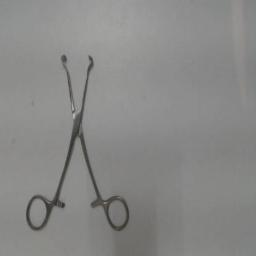Babcock Tissue Forceps: (26, 49, 136, 237)
